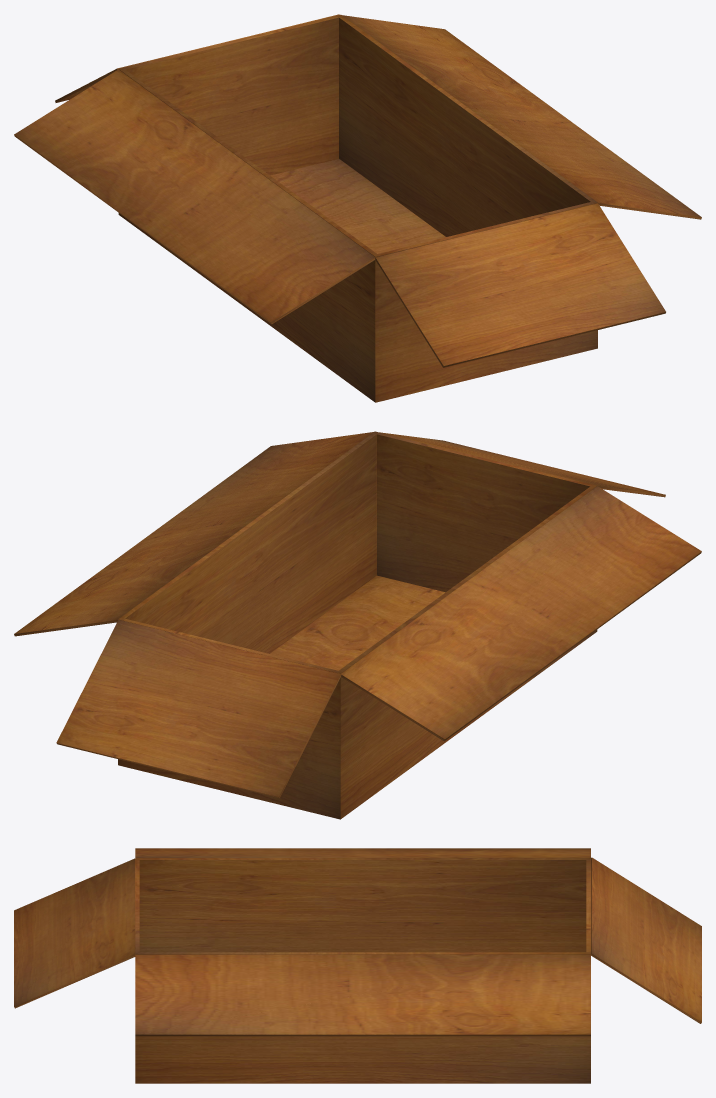
3 views of the same model, one above another, from view 1: azimuth 30°, elevation 25°; view 2: azimuth 150°, elevation 25°; view 3: azimuth 270°, elevation 25° (orthographic). The views are drawn at different scales.
Parts seen in each view (by area): view 1: Krychle_1_2, Krychle_2, Krychle, Krychle_2_2, Krychle_3, Krychle_1; view 2: Krychle_1_2, Krychle_2, Krychle_1, Krychle_2_2, Krychle_3, Krychle; view 3: Krychle_1_2, Krychle_3, Krychle_2_2, Krychle, Krychle_1, Krychle_2.
Part boxes in pixels (x1,y1,x2,y2): Krychle_1_2: (126,17,590,253); Krychle_2: (14,69,375,324); Krychle: (375,203,665,367); Krychle_2_2: (118,14,597,402); Krychle_3: (342,15,701,219); Krychle_1: (55,14,339,102); Krychle_1_2: (125,434,589,670); Krychle_2: (341,486,701,741); Krychle_1: (56,619,341,798); Krychle_2_2: (118,431,597,819); Krychle_3: (14,432,373,636); Krychle: (379,432,665,497); Krychle_1_2: (139,860,586,952); Krychle_3: (135,954,590,1036); Krychle_2_2: (135,858,590,1083); Krychle: (14,858,135,1008); Krychle_1: (591,857,701,1023); Krychle_2: (135,848,590,857).
Size of the model in its own units: 96.86 by 31.38 by 151.
1 material, 1 textured.
